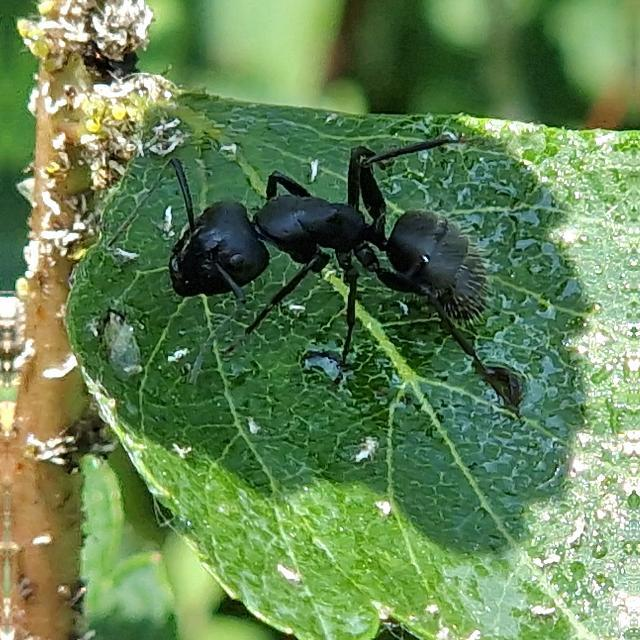Camponotus: (151, 120, 524, 372)
